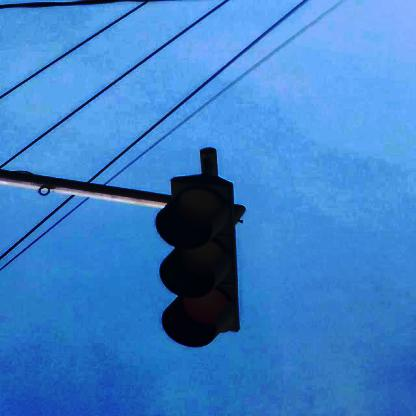Traffic Light -Red-: (162, 179, 242, 349)
